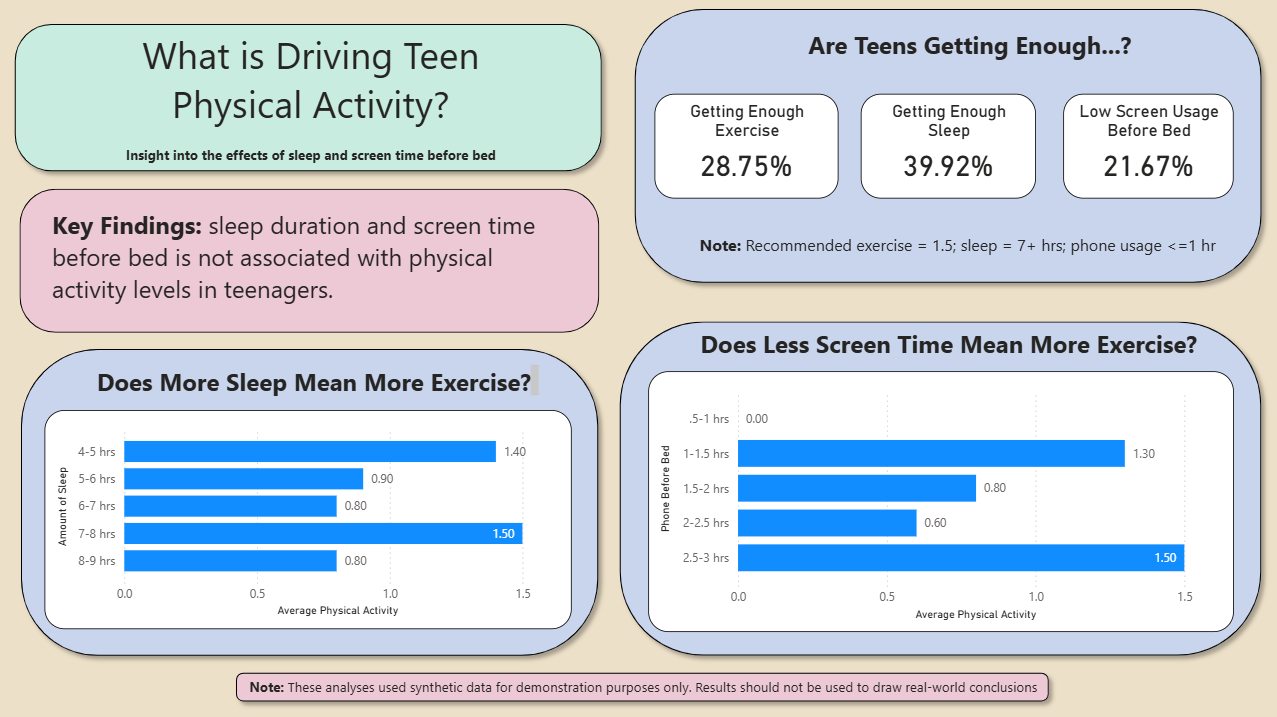

The dashboard page shown, as its layout file describes it:
{"tool":"powerbi","page":{"name":"Non-technical Dashboard","canvas":[1280,720],"ordinal":0},"visuals":[{"type":"shape","box":[628.3,0,644.9,291.8],"z":1000},{"type":"shape","box":[8.8,15.6,605,165.3],"z":2000},{"type":"shape","box":[22.4,188.7,579.7,144],"z":3000},{"type":"shape","box":[15.6,339.5,595.3,324.9],"z":4000},{"type":"shape","box":[613.7,312.2,659.5,352.1],"z":5000},{"type":"shape","box":[229.5,664.3,830.6,46.7],"z":6000},{"type":"textbox","box":[79.8,24.3,467.8,166.3],"z":7000},{"type":"textbox","box":[49.6,203.3,528.1,108.9],"z":8000},{"type":"textbox","box":[248,672,1002,32],"z":9000},{"type":"textbox","box":[749.9,24.3,445.5,58.4],"z":10000},{"type":"textbox","box":[94.3,359.9,453.3,40.9],"z":11000},{"type":"textbox","box":[680.9,321.9,540.8,75.9],"z":13000},{"type":"clusteredBarChart","fields":{"Category":["grouped_sleep_pa.sleep_bin"],"Y":["Avg(grouped_sleep_pa.physical_activity)"]},"box":[47.7,409.5,527.2,218.8],"z":14000},{"type":"clusteredBarChart","fields":{"Y":["Avg(grouped_screen_pa.physical_activity)"],"Category":["grouped_screen_pa.phone_bin"]},"box":[650.7,371.6,585.5,260.7],"z":15000},{"type":"kpi","title":"Getting Enough Exercise","fields":{"Indicator":["Sum(pct_thresholds.Percentage)"],"TrendLine":["pct_thresholds.Metric"]},"box":[657.5,93.4,183.8,105],"z":17000},{"type":"kpi","title":"Low Screen Usage Before Bed","fields":{"TrendLine":["pct_thresholds.Metric"],"Indicator":["Avg(pct_thresholds.Percentage)"]},"box":[1066,93.4,170.2,105],"z":18000},{"type":"kpi","title":"Getting Enough Sleep","fields":{"Indicator":["Sum(pct_thresholds.Percentage)"],"TrendLine":["pct_thresholds.Metric"]},"box":[863.7,93.4,175.1,105],"z":19000},{"type":"textbox","box":[722.7,225.7,550.5,32.1],"z":20000}]}

Visuals, with their boxes in screenshot pixels (x1, y1, x2, y2), scaled from the page's 1280x720 canvas onto the 1277x717 screenshot:
shape: box(627, 0, 1270, 291)
shape: box(9, 16, 612, 180)
shape: box(22, 188, 601, 331)
shape: box(16, 338, 609, 662)
shape: box(612, 311, 1270, 662)
shape: box(229, 662, 1058, 708)
textbox: box(80, 24, 546, 190)
textbox: box(49, 202, 576, 311)
textbox: box(247, 669, 1247, 701)
textbox: box(748, 24, 1193, 82)
textbox: box(94, 358, 546, 399)
textbox: box(679, 321, 1219, 396)
clusteredBarChart - grouped_sleep_pa.sleep_bin x Avg(grouped_sleep_pa.physical_activity): box(48, 408, 574, 626)
clusteredBarChart - Avg(grouped_screen_pa.physical_activity) x grouped_screen_pa.phone_bin: box(649, 370, 1233, 630)
"Getting Enough Exercise" kpi: box(656, 93, 839, 198)
"Low Screen Usage Before Bed" kpi: box(1064, 93, 1233, 198)
"Getting Enough Sleep" kpi: box(862, 93, 1036, 198)
textbox: box(721, 225, 1270, 257)
